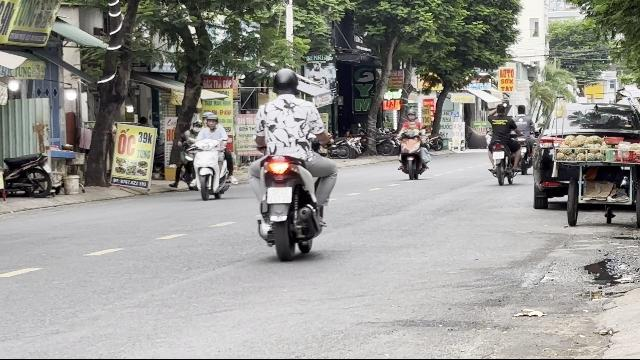helmet: (271, 68, 299, 96), (206, 114, 218, 132)
licenseplate: (266, 188, 292, 204)
motorcyclist: (247, 66, 337, 260), (189, 110, 235, 200)
